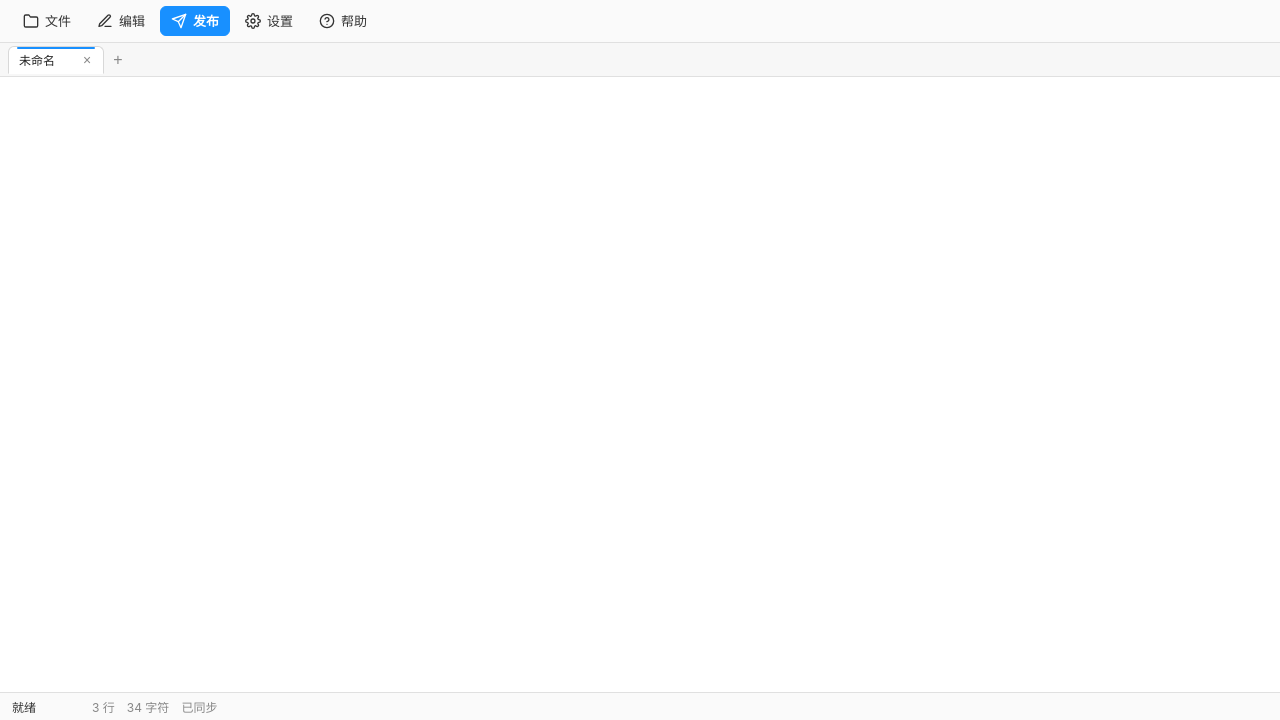
Test case: App › automatically uses a discovered PicGo Desktop configuration for CLI uploads
Click the button "设置": point(269, 21) [234,6,304,36]
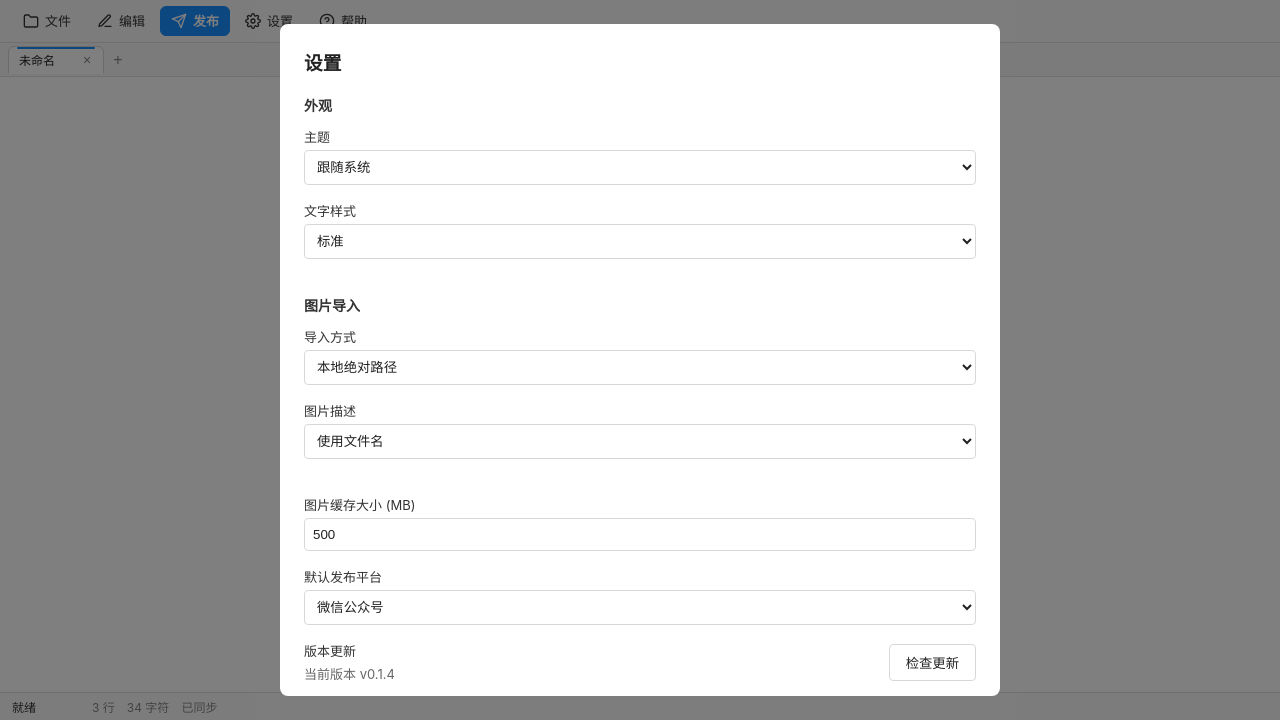
Now the heading "设置" is shown, box [304,52,341,75]
Select "PicGo CLI 图床" in the dropdown labelled "导入方式": point(640, 368) [304,350,976,385]
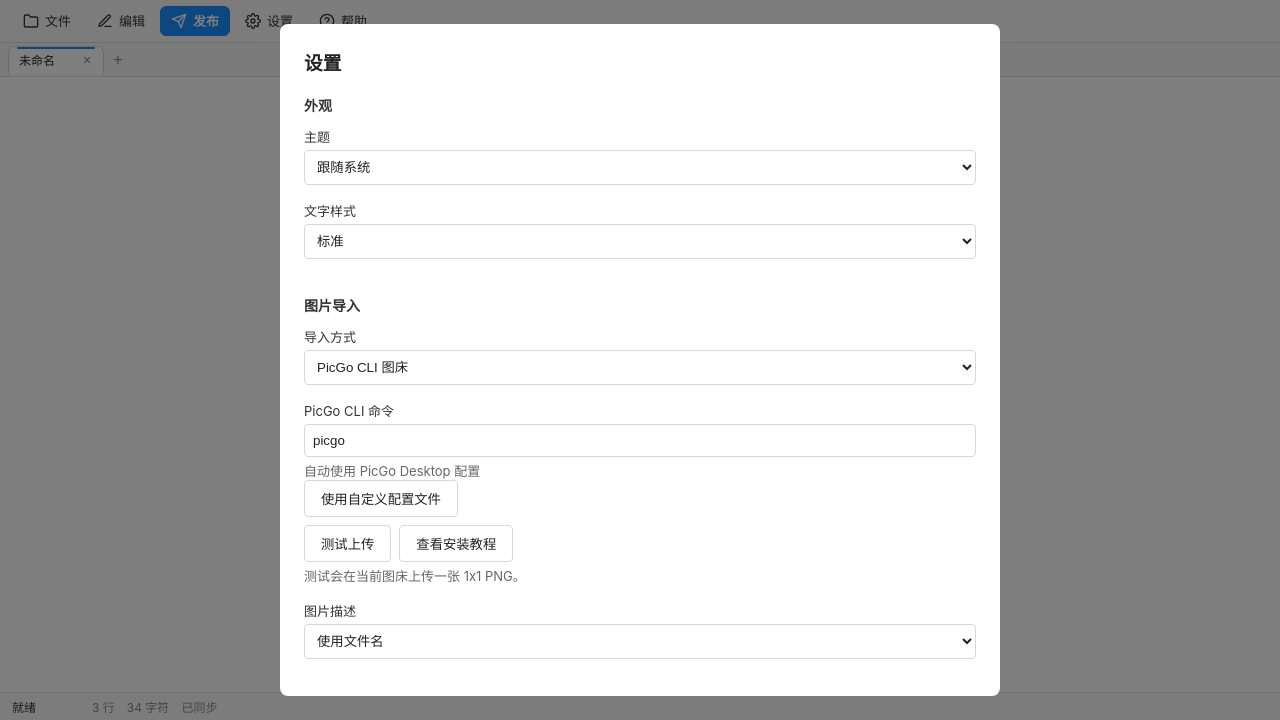
Expected: the field labelled "PicGo 配置文件（可选）" is not shown
Now the text "自动使用 PicGo Desktop 配置" is shown, box [304,463,480,479]
Click the button "使用自定义配置文件": point(381, 498) [304,480,458,517]
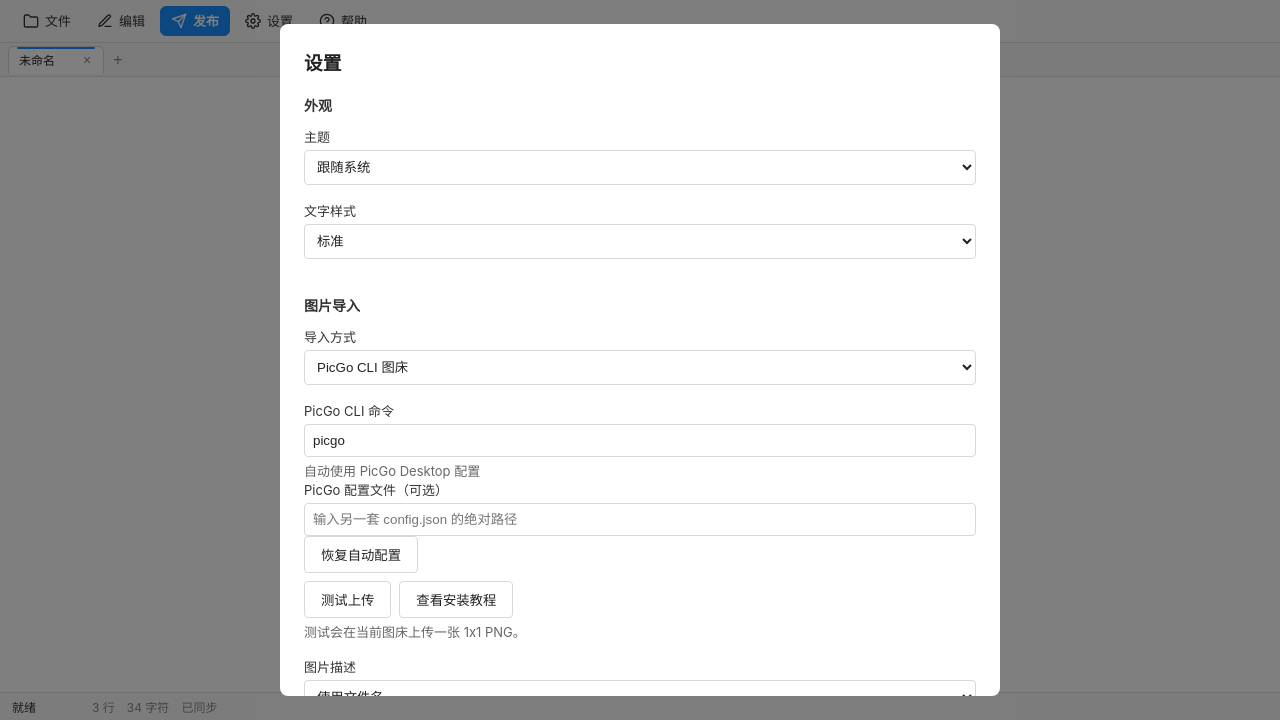
Now the field labelled "PicGo 配置文件（可选）" is shown, box [304,503,976,536]
